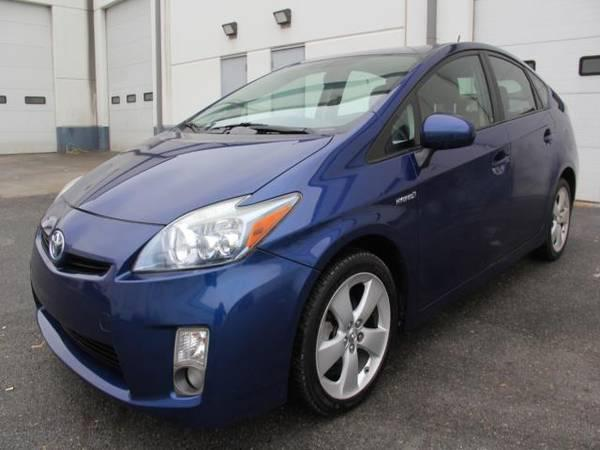Front_Bumper: (29, 195, 316, 417)
Front_Fender: (242, 117, 420, 323)
Front_Left_Door: (399, 123, 510, 318)
Front_Left_Window: (391, 49, 502, 149)
Front_Windshield: (173, 53, 417, 141)
Grille: (32, 285, 127, 396)
Hood: (55, 132, 330, 222)
Left_Headlight: (130, 190, 302, 271)
Rear_Fender: (544, 102, 578, 181)
Rear_Left_Door: (500, 110, 560, 266)
Rear_Left_Window: (488, 54, 552, 124)
Roof: (364, 42, 518, 129)
Wheel: (302, 247, 407, 410), (551, 185, 576, 254)
